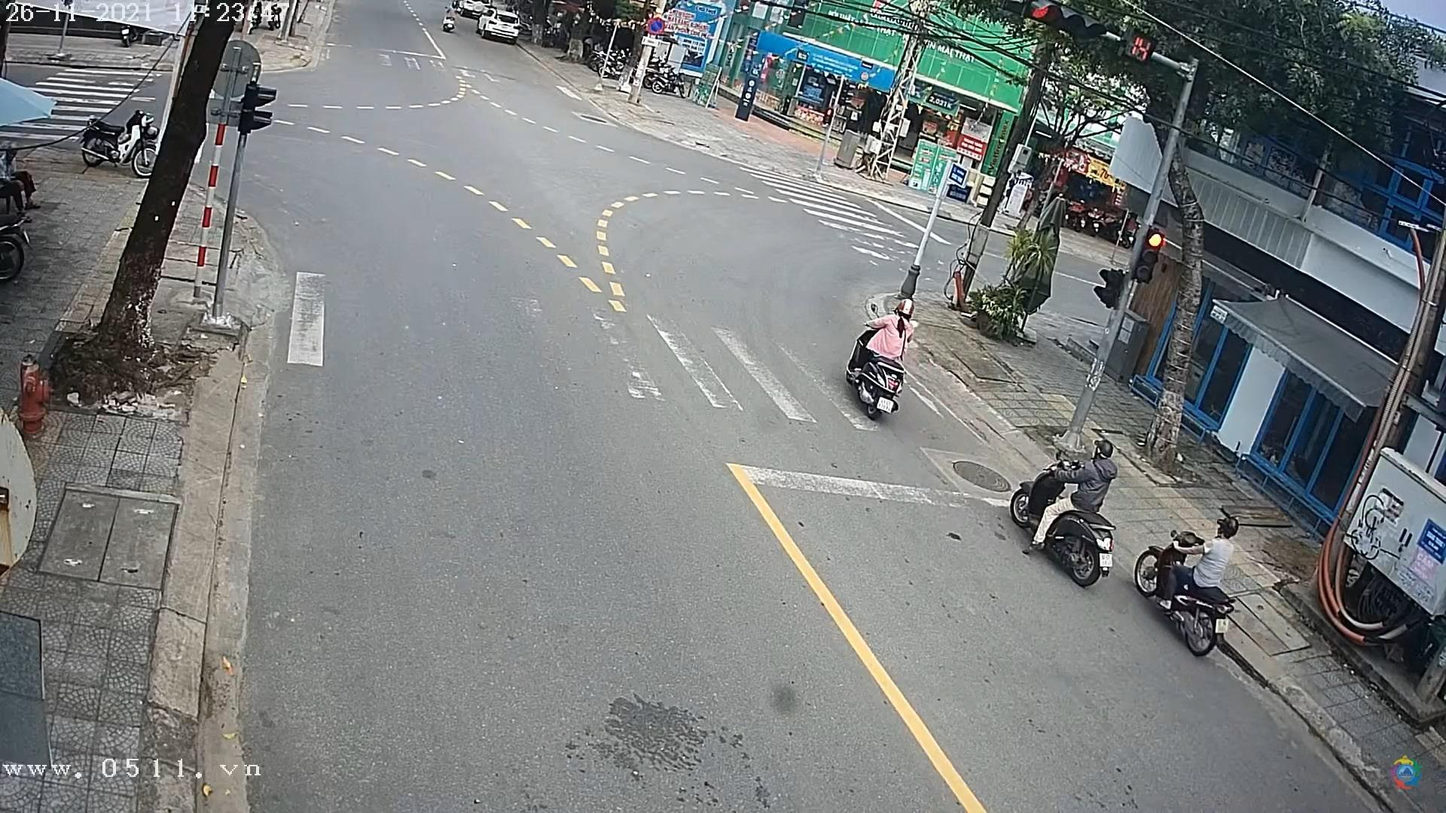motorbike: (1010, 461, 1120, 592), (1136, 525, 1237, 655), (848, 337, 906, 420)
